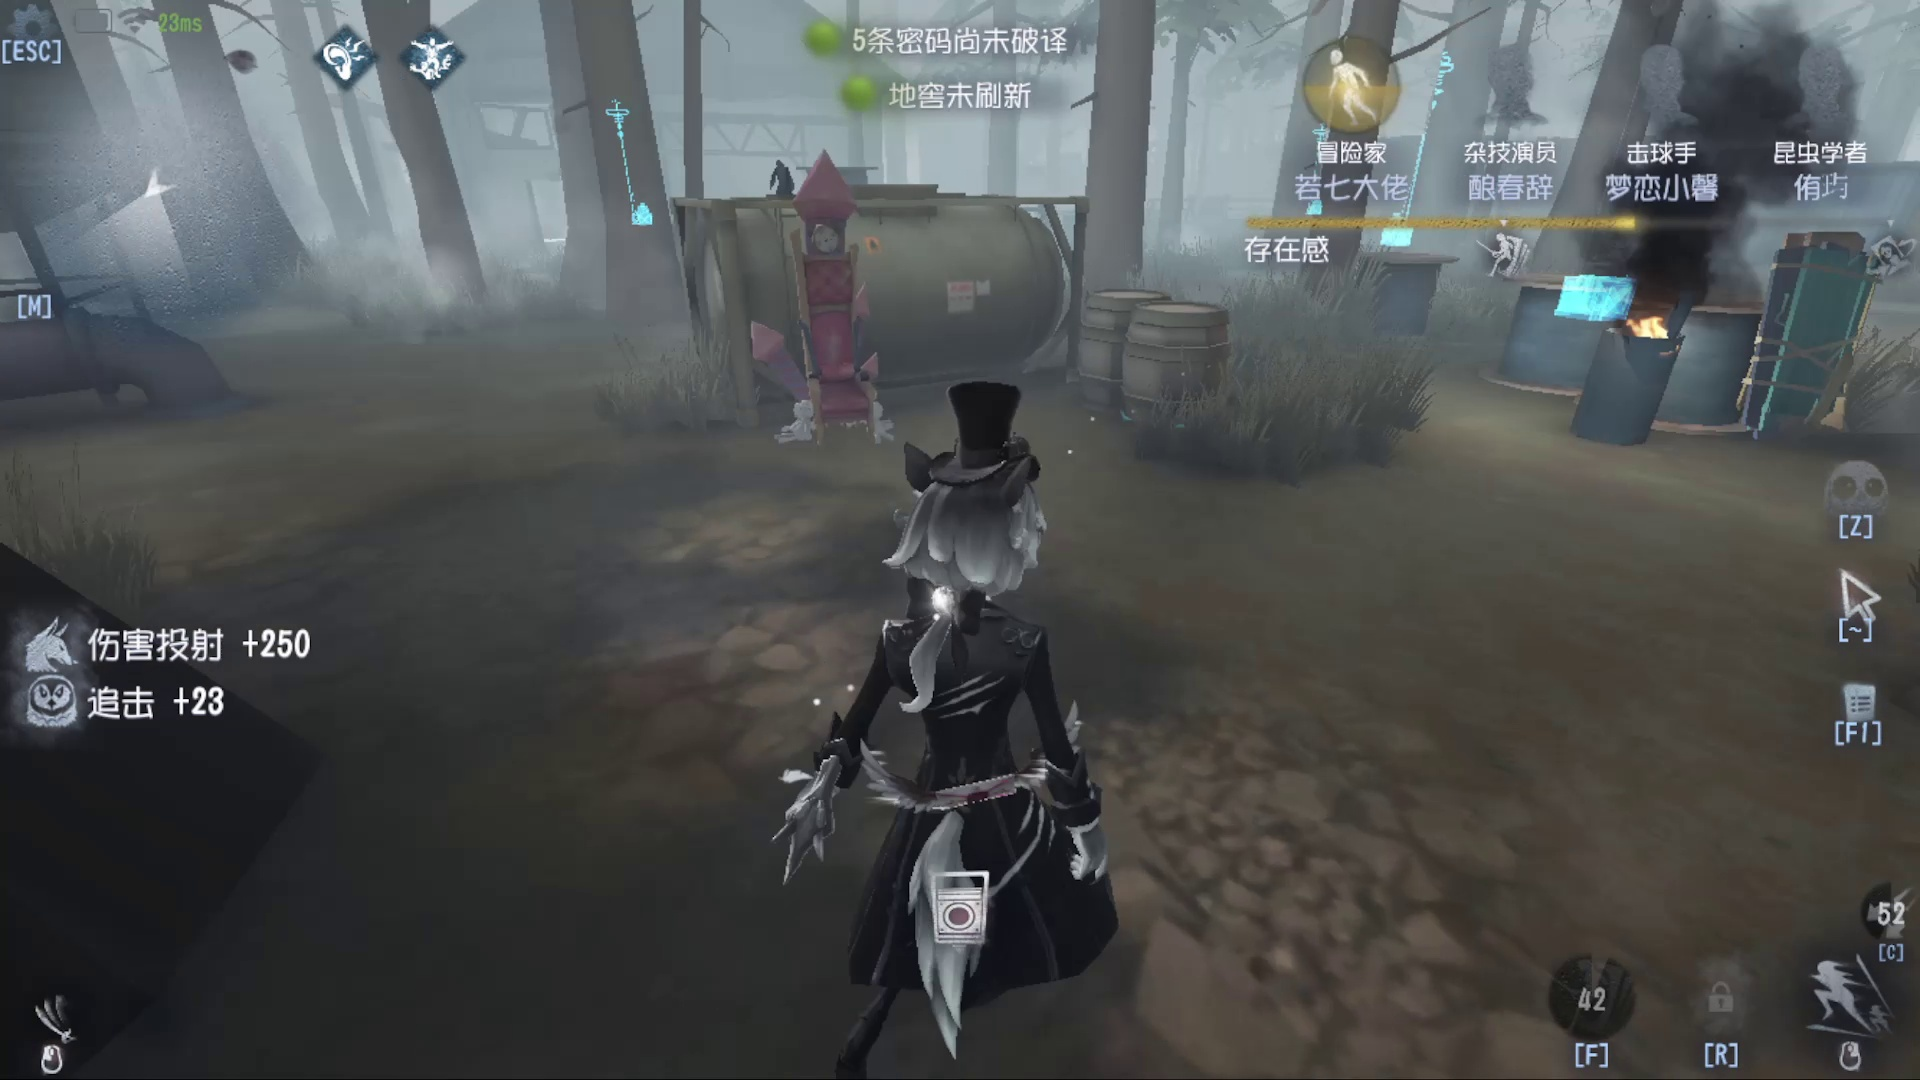密码机: (1379, 66, 1470, 261), (582, 86, 687, 233)
木板: (1763, 218, 1861, 471)
狂欢之椅: (760, 152, 916, 431)
